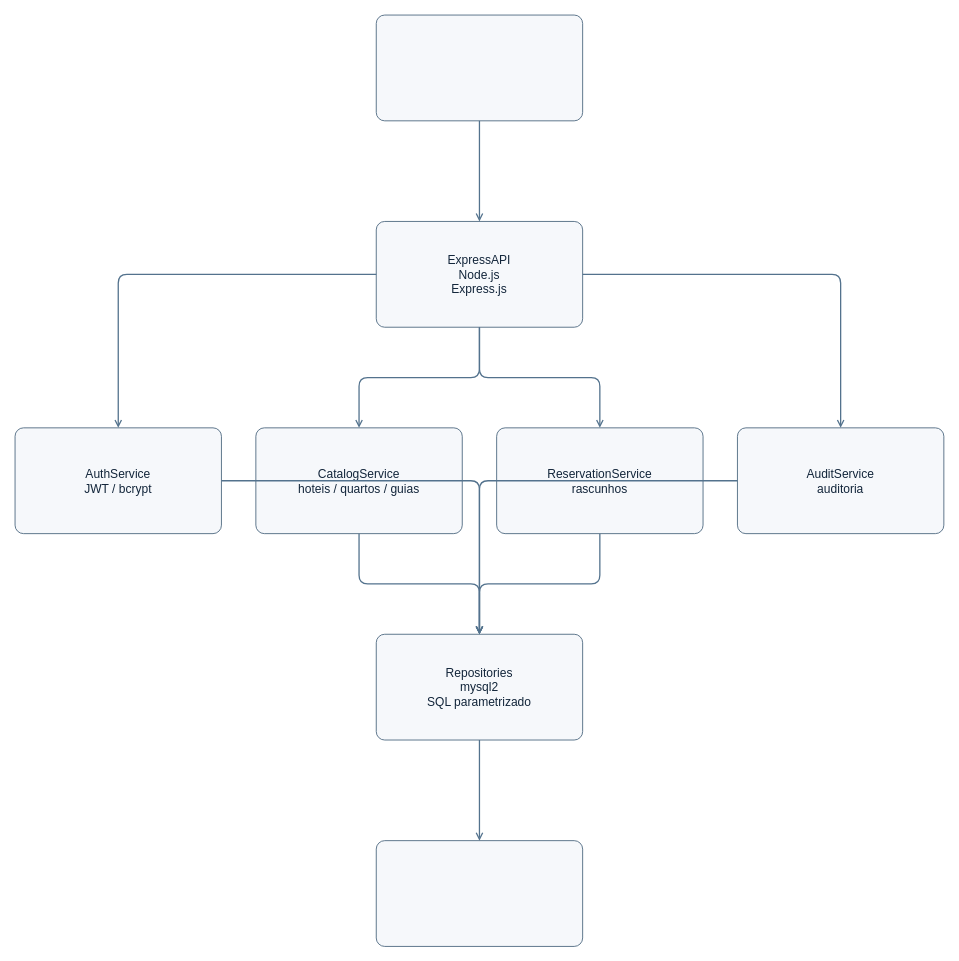
Image size: 959x961. Some labels were removed from this diagram. The shapes that lost their labels are listed below. From the top down, each one's centre as x and y in pixels, then its label:
At (479,67): "ClienteHTTP JSON / HTTP".
At (479,893): "MySQL8 persistencia".
